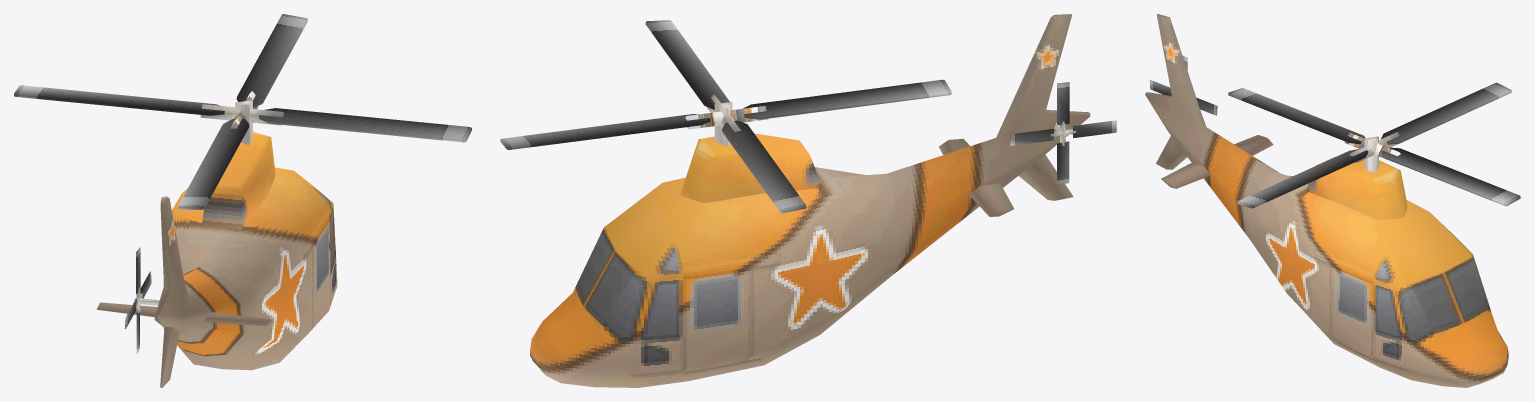
File: ps2_save-icons_petitcopter.glb
3 views of the same model, side by side, from view 1: azimuth 30°, elevation 25°; view 2: azimuth 150°, elevation 25°; view 3: azimuth 270°, elevation 25° (orthographic). The views are drawn at different scales.
Parts seen in each view (by area): view 1: puti.ico; view 2: puti.ico; view 3: puti.ico.
Part boxes in pixels (bbox=[...]): puti.ico: bbox=[14, 14, 471, 387]; puti.ico: bbox=[500, 14, 1116, 387]; puti.ico: bbox=[1145, 14, 1520, 387].
Bounding box in the file's own units: 3.82 × 2.65 × 3.7.
Materials: 1 (1 with a texture image).
